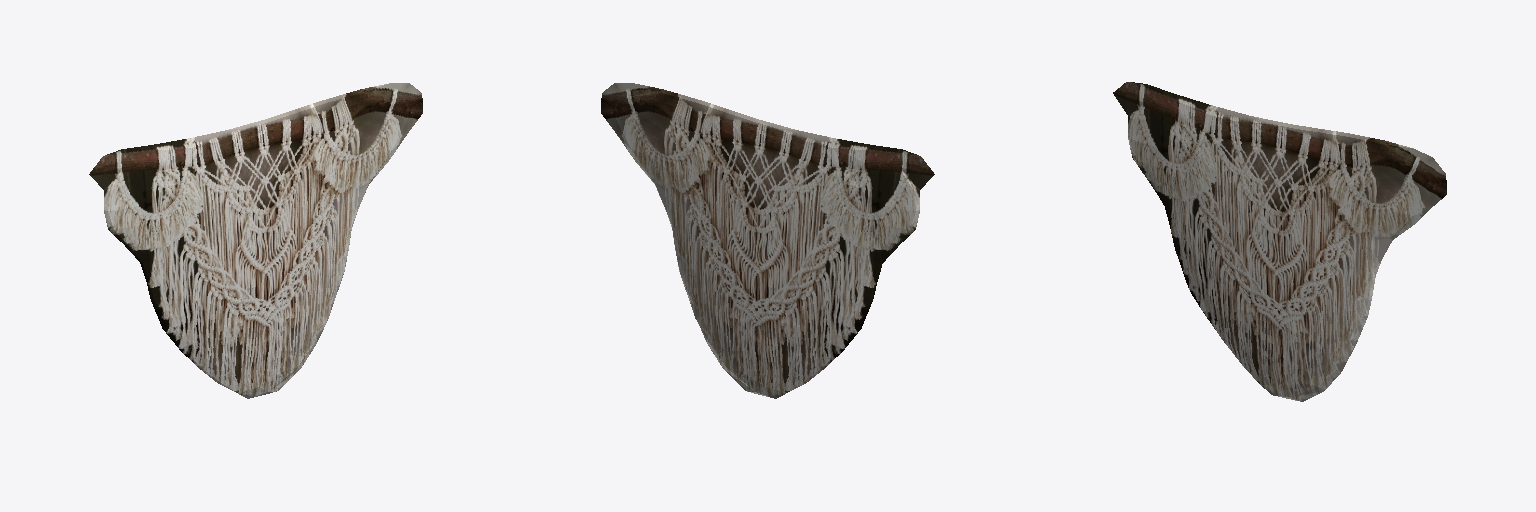
The picture shows the model from 3 angles: view 1: azimuth 30°, elevation 25°; view 2: azimuth 150°, elevation 25°; view 3: azimuth 330°, elevation 25°; orthographic projection.
Size of the model in its own units: 1.75 by 1.41 by 0.1193.
1 materials, 1 textured.